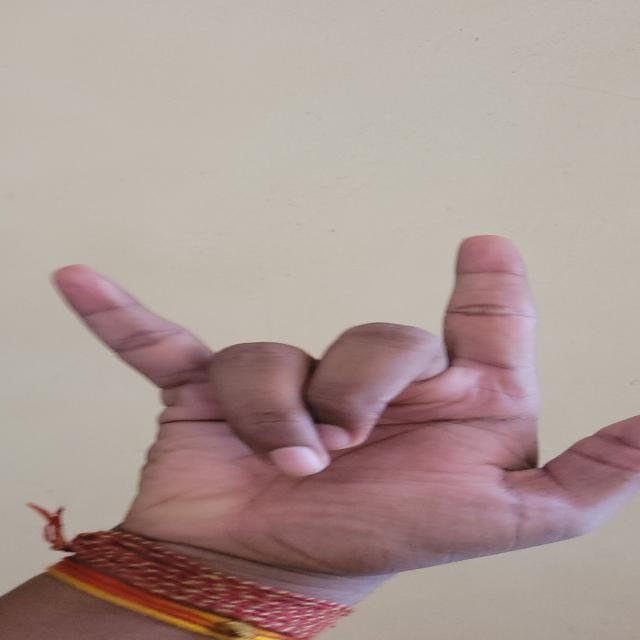i like you: (30, 190, 640, 587)
